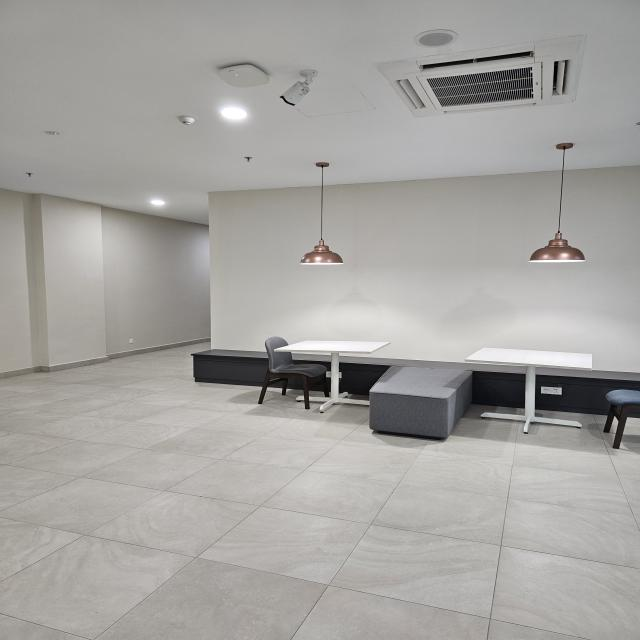footpath: (2, 446, 635, 638)
obstacle: (259, 332, 640, 441)
